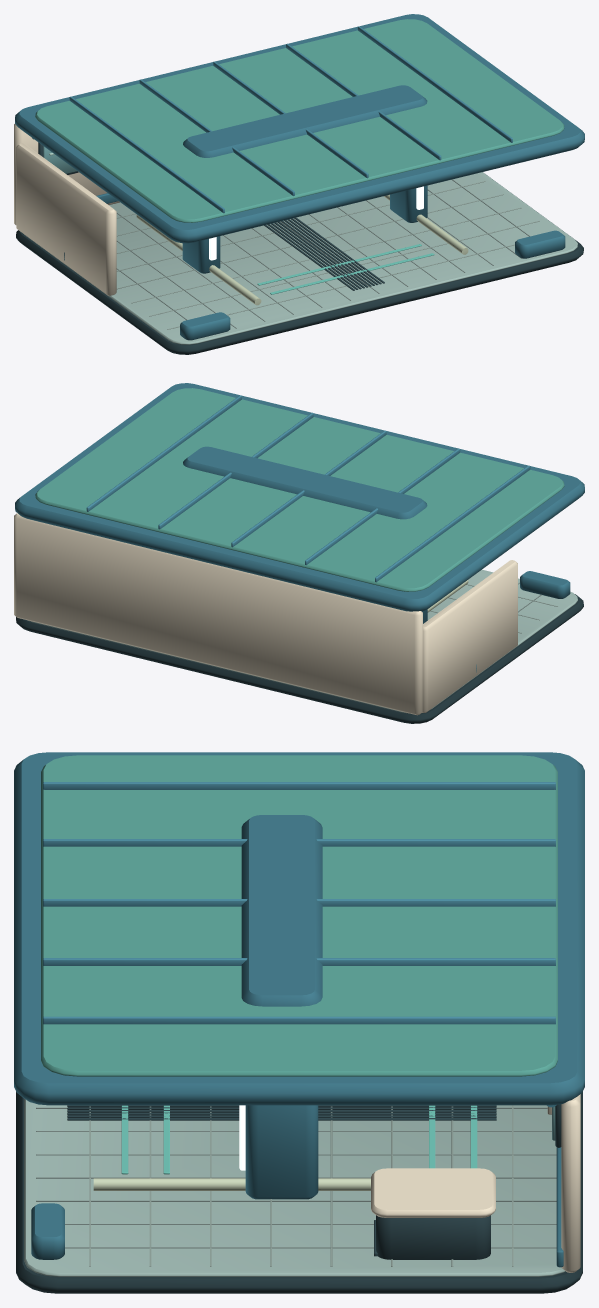
File: wash.glb
3 renders of one model, top to bottom at view 1: azimuth 30°, elevation 25°; view 2: azimuth 150°, elevation 25°; view 3: azimuth 270°, elevation 25°, orthographic. The views are drawn at different scales.
Visible parts, largest first — view 1: Roof, Room; view 2: Roof, Room; view 3: Roof, Room.
Boxes of the visible parts, x1,y1,x2,y2 form: Roof: (15,14,584,243); Room: (14,85,583,354); Roof: (15,383,584,611); Room: (14,446,583,723); Roof: (14,752,584,1105); Room: (16,815,582,1293).
Size of the model in its own units: 11.5 by 3.5 by 8.18.
